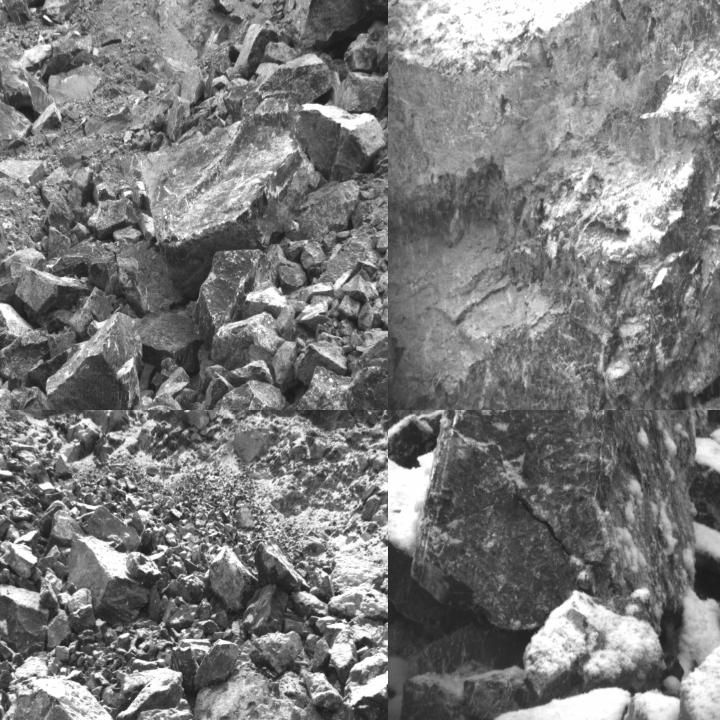stone: (388, 0, 719, 409), (410, 410, 698, 632), (142, 127, 311, 294), (522, 596, 666, 701), (253, 100, 385, 178), (45, 313, 142, 409), (617, 635, 719, 719), (158, 672, 328, 719), (198, 249, 277, 348), (67, 535, 147, 627), (0, 684, 150, 719), (290, 0, 387, 51), (14, 266, 92, 328), (116, 242, 182, 315), (46, 240, 124, 296), (138, 308, 200, 374), (297, 179, 359, 242), (115, 666, 186, 719), (259, 54, 334, 104), (0, 53, 55, 117), (0, 584, 49, 655), (345, 331, 387, 409), (208, 546, 257, 612), (254, 537, 310, 592), (344, 648, 387, 719), (0, 327, 48, 388), (290, 367, 355, 409), (82, 505, 142, 549), (0, 101, 33, 177), (193, 642, 242, 693), (208, 379, 290, 409), (232, 21, 278, 74), (244, 584, 289, 638), (331, 72, 387, 114), (254, 631, 302, 680), (330, 583, 387, 621), (88, 197, 139, 239), (0, 304, 34, 351), (271, 341, 299, 391), (306, 672, 344, 708), (48, 510, 83, 549), (332, 626, 356, 682), (125, 552, 162, 588), (344, 34, 378, 73), (137, 696, 193, 719), (66, 587, 97, 628), (44, 191, 72, 233), (5, 384, 52, 409), (43, 0, 91, 24), (4, 543, 36, 577), (180, 65, 205, 107), (47, 607, 72, 649), (341, 273, 377, 302), (31, 104, 64, 134), (46, 227, 72, 260), (1, 0, 32, 27), (298, 302, 328, 328), (300, 241, 324, 270), (312, 636, 330, 674), (373, 619, 387, 667), (274, 307, 294, 340), (212, 0, 241, 15), (23, 0, 47, 8)
